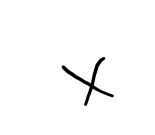mult: (62, 57, 114, 106)
